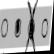correct: (14, 18, 22, 39)
not correct: (24, 0, 40, 52)
